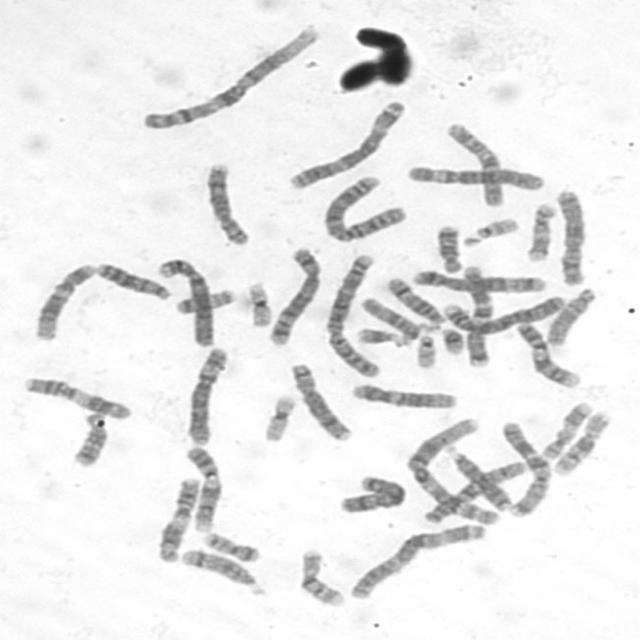A1: (136, 20, 322, 134), (401, 414, 504, 529)
A2: (321, 253, 384, 379), (318, 173, 408, 244)
A3: (284, 96, 408, 190), (345, 520, 487, 602)
B4: (153, 255, 217, 349), (436, 292, 567, 334)
B5: (265, 244, 323, 347), (408, 266, 546, 294)
C10: (420, 460, 529, 526), (443, 119, 505, 208)
C11: (18, 374, 135, 421), (154, 475, 202, 563)
C12: (29, 260, 96, 341), (349, 381, 458, 410)
C6: (182, 344, 230, 447), (403, 162, 546, 192)
C7: (497, 419, 553, 517), (458, 265, 498, 368)
C8: (287, 360, 354, 444), (201, 160, 252, 247)
C9: (513, 320, 583, 389), (184, 444, 222, 535)
D13: (442, 442, 513, 512), (94, 259, 173, 301)
D14: (178, 546, 265, 598), (383, 275, 445, 324)
D15: (543, 285, 599, 347), (357, 294, 420, 347)
E16: (548, 408, 613, 476), (296, 546, 346, 608)
E17: (538, 398, 594, 461), (523, 200, 558, 264)
E18: (68, 419, 110, 467), (433, 223, 464, 275)
F19: (258, 392, 298, 443), (244, 278, 275, 328)
F20: (199, 528, 262, 562), (172, 287, 239, 317)
G21: (354, 325, 404, 349), (439, 325, 466, 356)
G22: (459, 215, 522, 249), (412, 331, 439, 370)
X: (552, 186, 587, 286), (334, 472, 409, 515)
